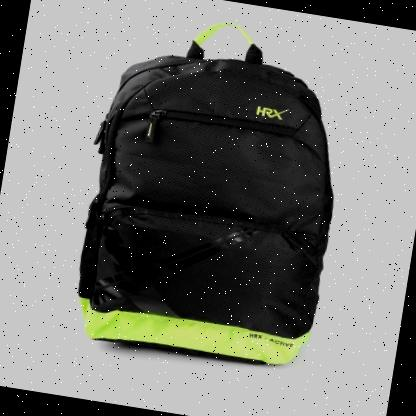bag: (60, 11, 364, 382)
